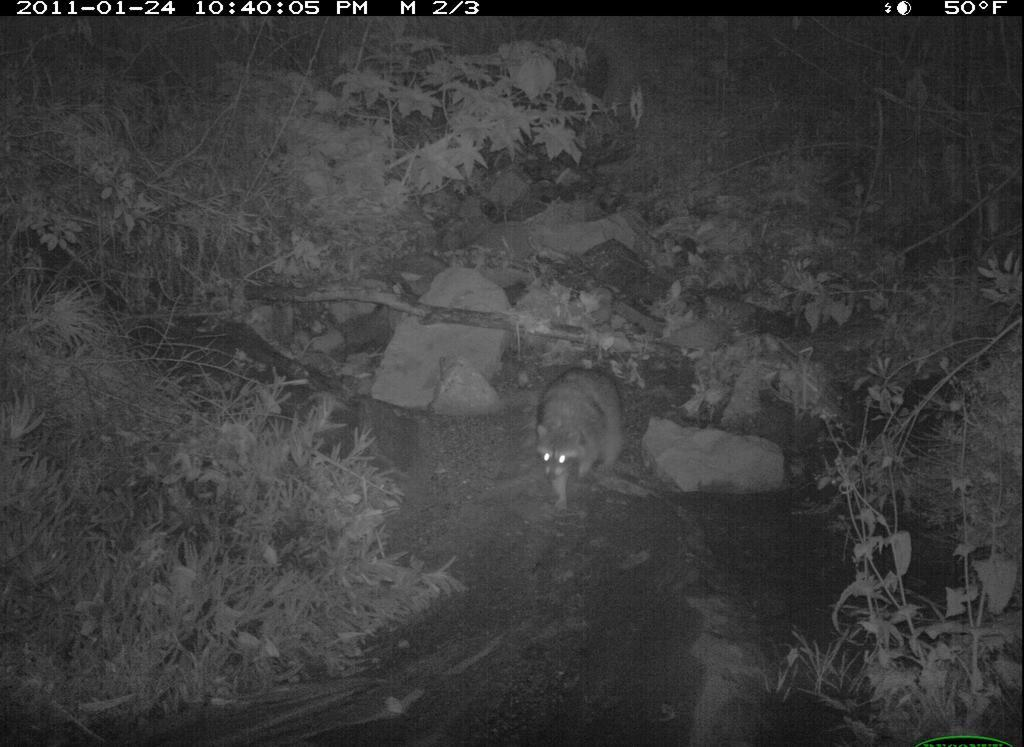raccoon: (506, 359, 649, 521)
